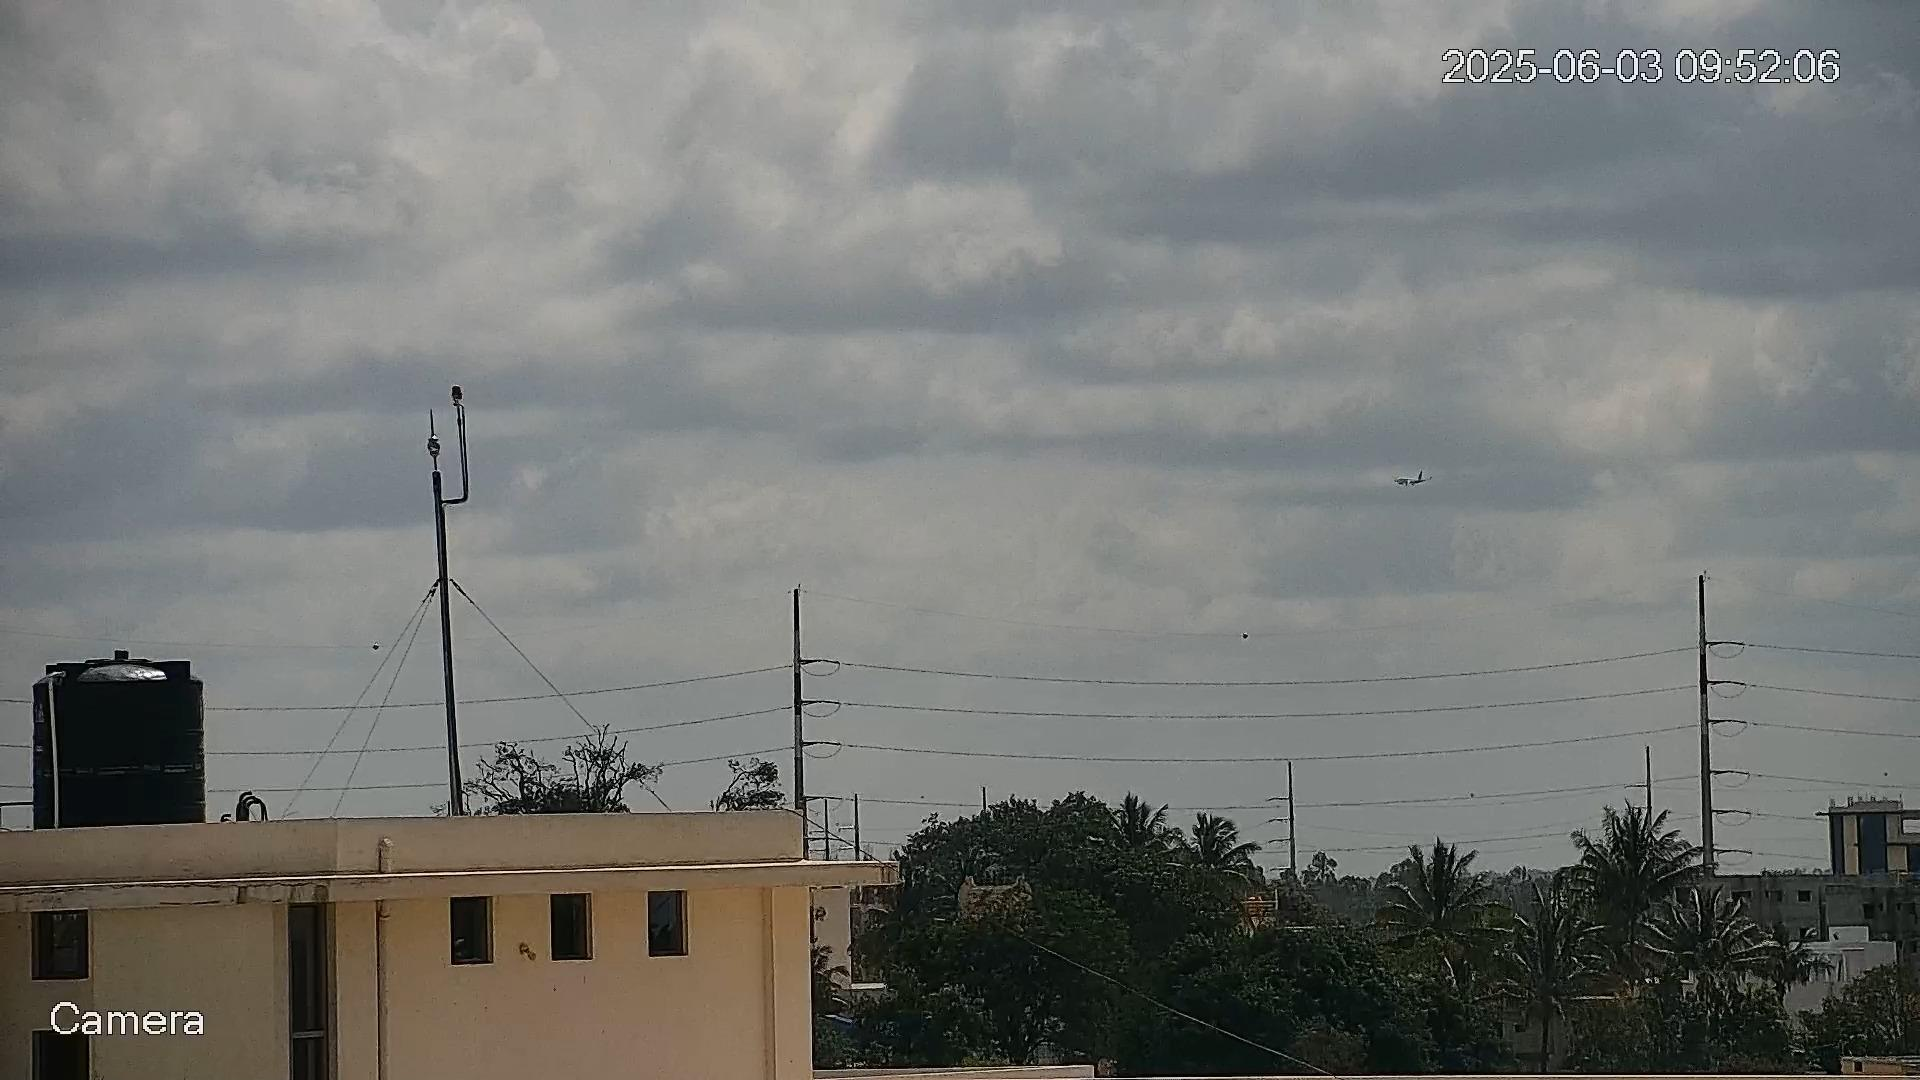Aircraft: (1395, 471, 1431, 488)
